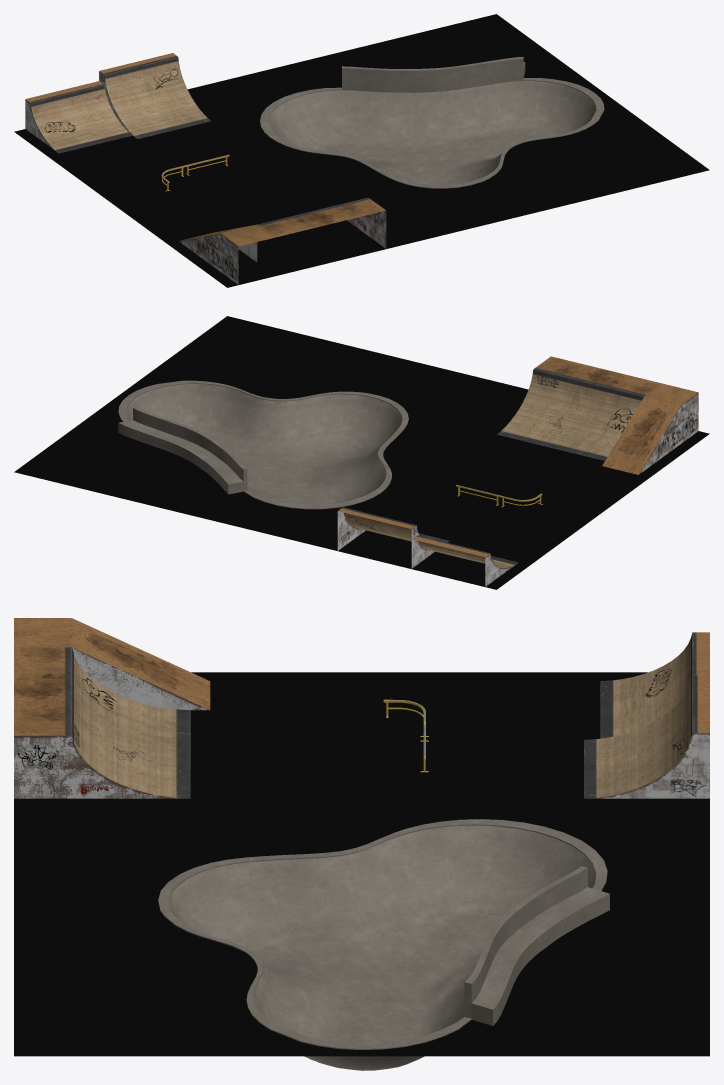
The model's file is skateboarding_props_pack.glb.
3 views of the same model, one above another, from view 1: azimuth 30°, elevation 25°; view 2: azimuth 150°, elevation 25°; view 3: azimuth 270°, elevation 25° (orthographic). The views are drawn at different scales.
Parts seen in each view (by area): view 1: Plane.013, Bowl, DoubleRamp, InclineRamp; view 2: Plane.013, Bowl, InclineRamp, DoubleRamp; view 3: Plane.013, Bowl, InclineRamp, DoubleRamp.
Boxes of the visible parts, left/top/right/bottom form: Plane.013: left=14, top=14, right=709, bottom=287; Bowl: left=260, top=56, right=604, bottom=188; DoubleRamp: left=25, top=53, right=210, bottom=153; InclineRamp: left=179, top=197, right=386, bottom=284; Plane.013: left=14, top=316, right=709, bottom=589; Bowl: left=118, top=380, right=408, bottom=509; InclineRamp: left=497, top=356, right=698, bottom=474; DoubleRamp: left=337, top=507, right=518, bottom=586; Plane.013: left=14, top=672, right=709, bottom=1056; Bowl: left=158, top=819, right=609, bottom=1070; InclineRamp: left=14, top=618, right=210, bottom=798; DoubleRamp: left=584, top=632, right=709, bottom=798.
Bounding box in the file's own units: 33.73 × 4.88 × 25.83.
5 materials, 4 textured.
